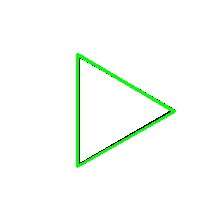line_segment: (76, 54, 175, 167)
